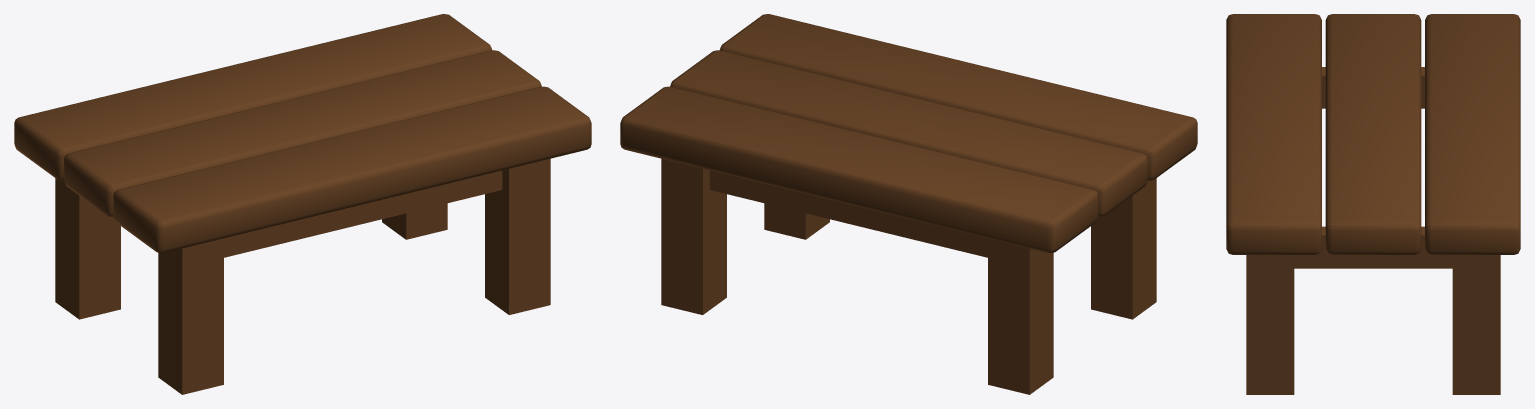
Rendered from CoffeeTableT02.glb.
3 views of the same model, side by side, from view 1: azimuth 30°, elevation 25°; view 2: azimuth 150°, elevation 25°; view 3: azimuth 270°, elevation 25° (orthographic).
Visible parts, largest first — view 1: Body_Wood; view 2: Body_Wood; view 3: Body_Wood.
Boxes of the visible parts, x1,y1,x2,y2 form: Body_Wood: (14,14,591,394); Body_Wood: (620,14,1197,394); Body_Wood: (1226,14,1520,394).
Size of the model in its own units: 4.4 by 1.8 by 2.57.
